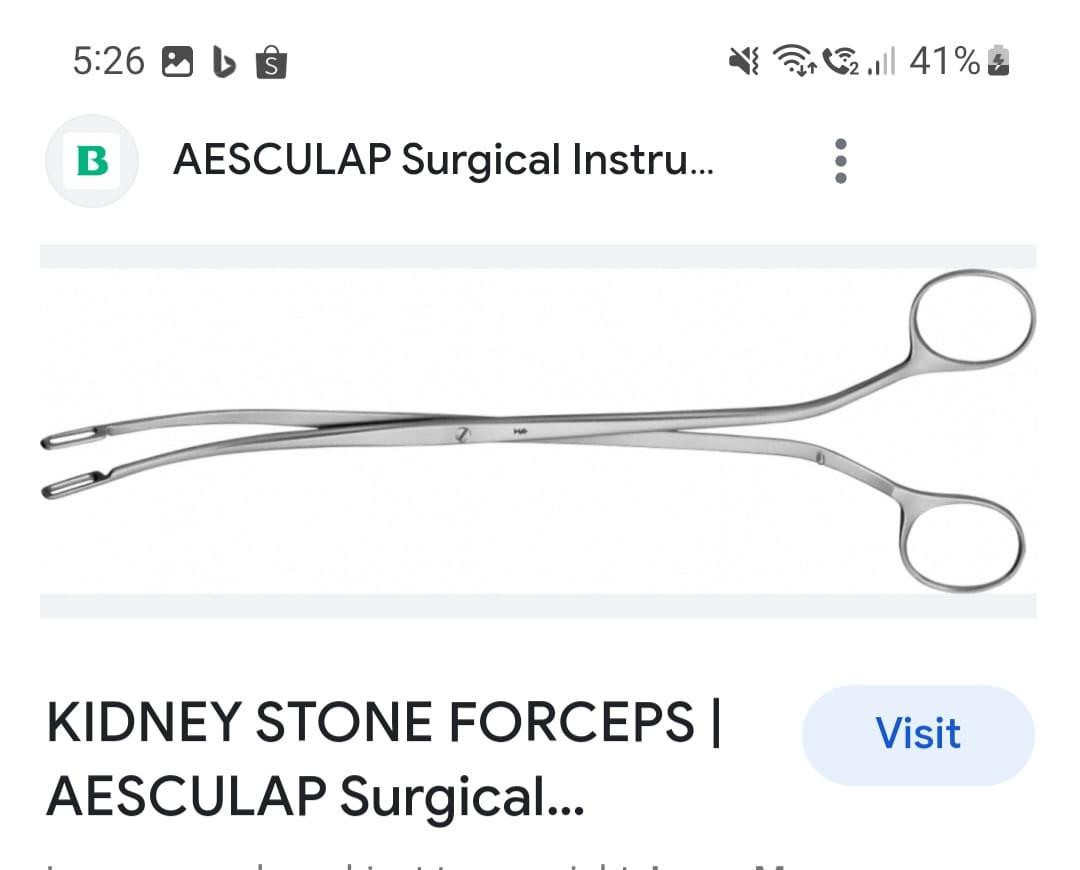Desjardin Forceps: (31, 252, 1045, 598)
